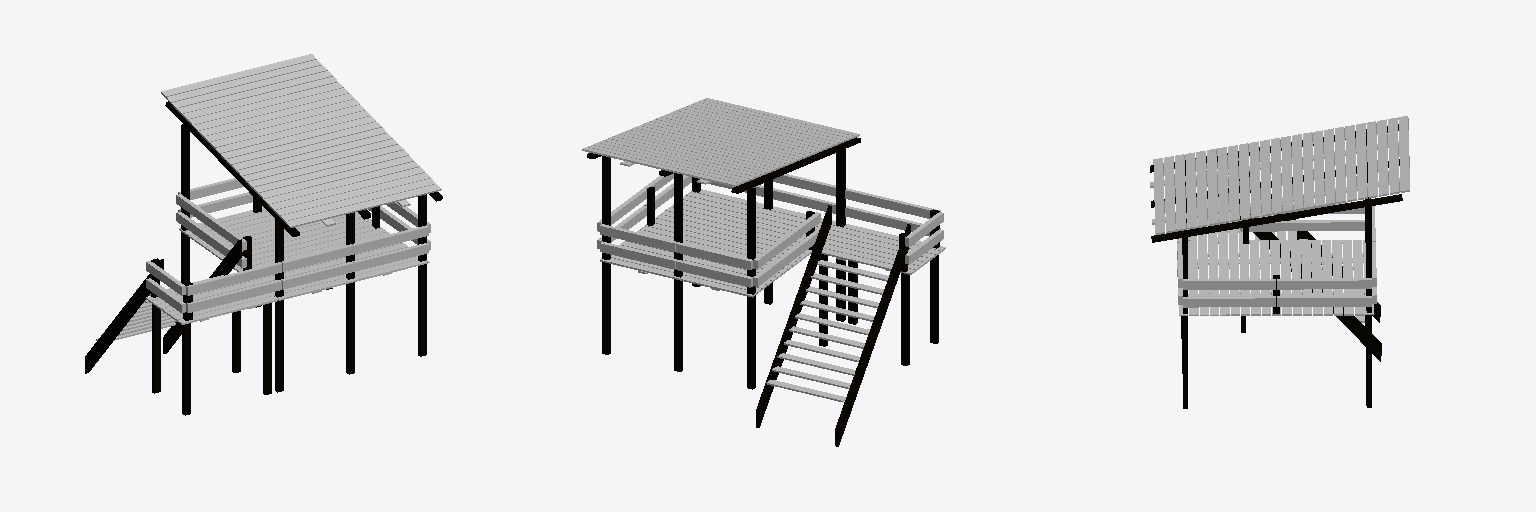
Rendered from casa.obj.
3 renders of one model, left to right at view 1: azimuth 30°, elevation 25°; view 2: azimuth 150°, elevation 25°; view 3: azimuth 270°, elevation 25°, orthographic.
Visible parts, largest first — view 1: roof, floor, back_holder, Cube, back-bench1.001, back-bench2, floor.001, back_holder.001, back-bench1.003, back-bench1, back_holder.002, front_holder (+5 smaller); view 2: roof, floor, front_holder, floor.002, Cube, floor.001, back-bench1.001, back-bench1.003, front-bench2, front-bench1, back_holder, back-bench1 (+6 smaller); view 3: roof, floor, side-bench2, roof_holder_2, side-bench1, back-bench1.003, front_holder, Cube, back_holder.
Part boxes in pixels (x1,y1,x2,y2): roof: (161,54,441,227); floor: (179,207,429,300); back_holder: (275,194,426,392); Cube: (85,239,242,373); back-bench1.001: (186,262,281,312); back-bench2: (352,225,428,271); floor.001: (146,280,277,324); back_holder.001: (182,303,271,415); back-bench1.003: (176,194,246,267); back-bench1: (281,244,353,289); back_holder.002: (152,304,240,393); front_holder: (181,124,332,307); roof: (582,98,859,186); floor: (600,189,847,297); front_holder: (602,156,755,389); floor.002: (766,260,888,401); Cube: (756,205,910,446); floor.001: (821,224,945,274); back-bench1.001: (845,188,940,236); back-bench1.003: (753,212,820,286); front-bench2: (676,242,752,287); front-bench1: (600,224,676,269); back_holder: (692,149,845,321); back-bench1: (773,174,835,213); roof: (1153,116,1409,234); floor: (1179,240,1373,315); side-bench2: (1277,278,1371,306); roof_holder_2: (1150,124,1402,242); side-bench1: (1183,279,1275,307); back-bench1.003: (1240,203,1364,231); front_holder: (1365,137,1371,407); Cube: (1238,161,1381,361); back_holder: (1181,164,1187,408).
Size of the model in its own units: 13.01 by 12.29 by 11.6.